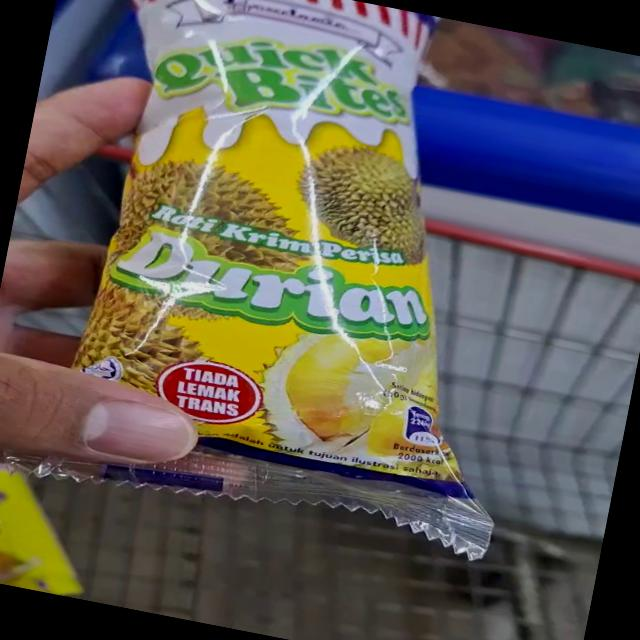Roti: (43, 181, 549, 564), (64, 0, 486, 295)
